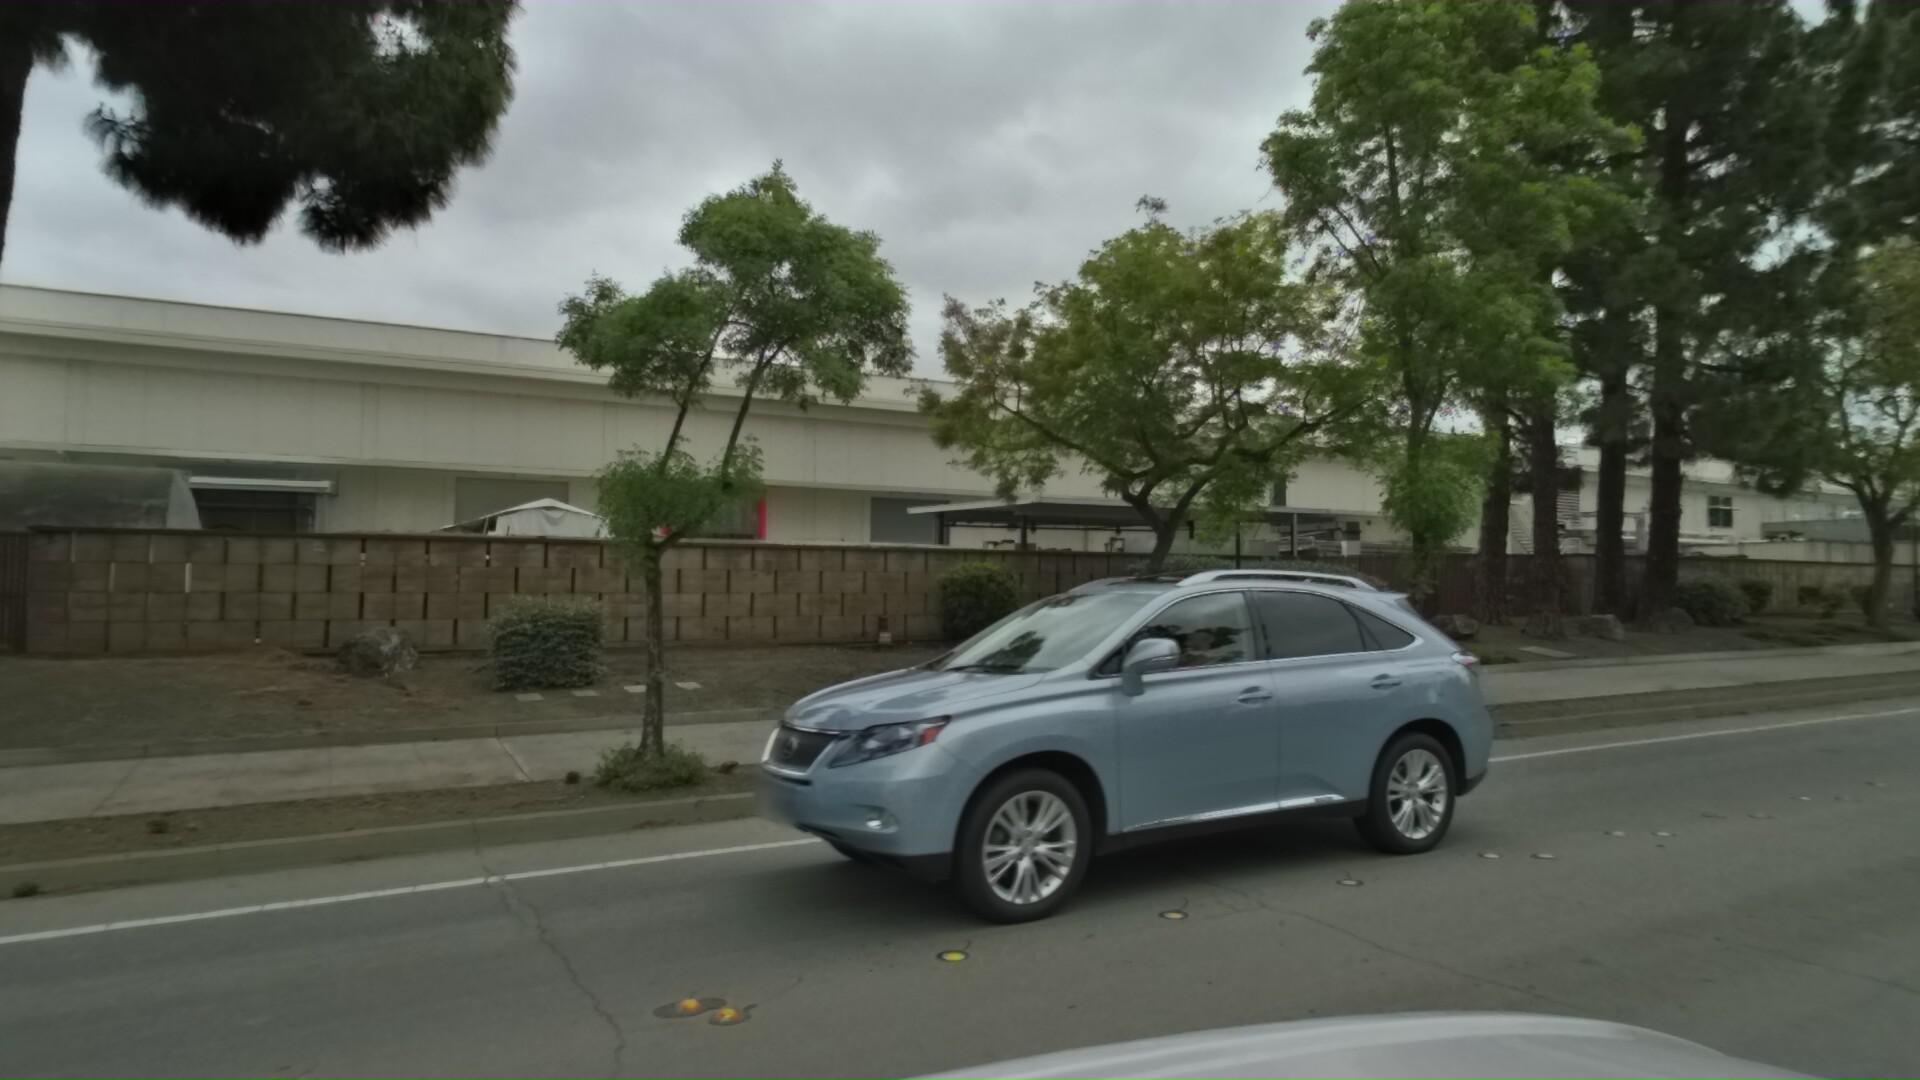car: (498, 531, 1422, 1038)
